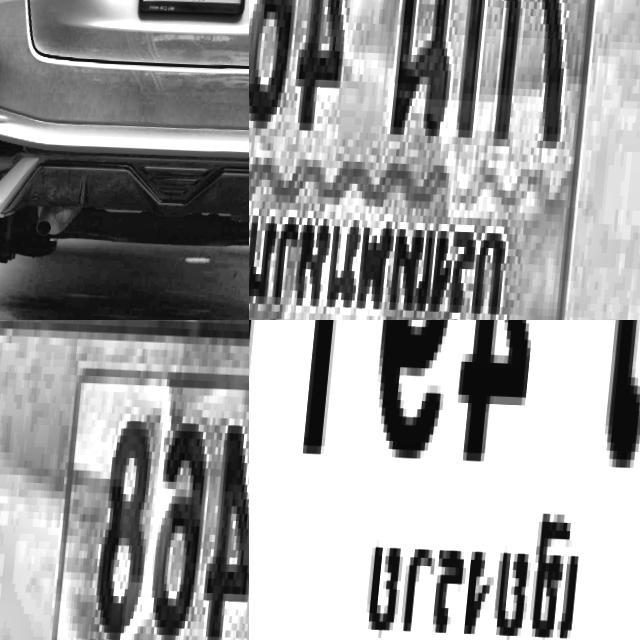license-plate: (249, 0, 640, 320), (249, 320, 640, 640), (0, 320, 249, 640), (139, 0, 249, 22)
